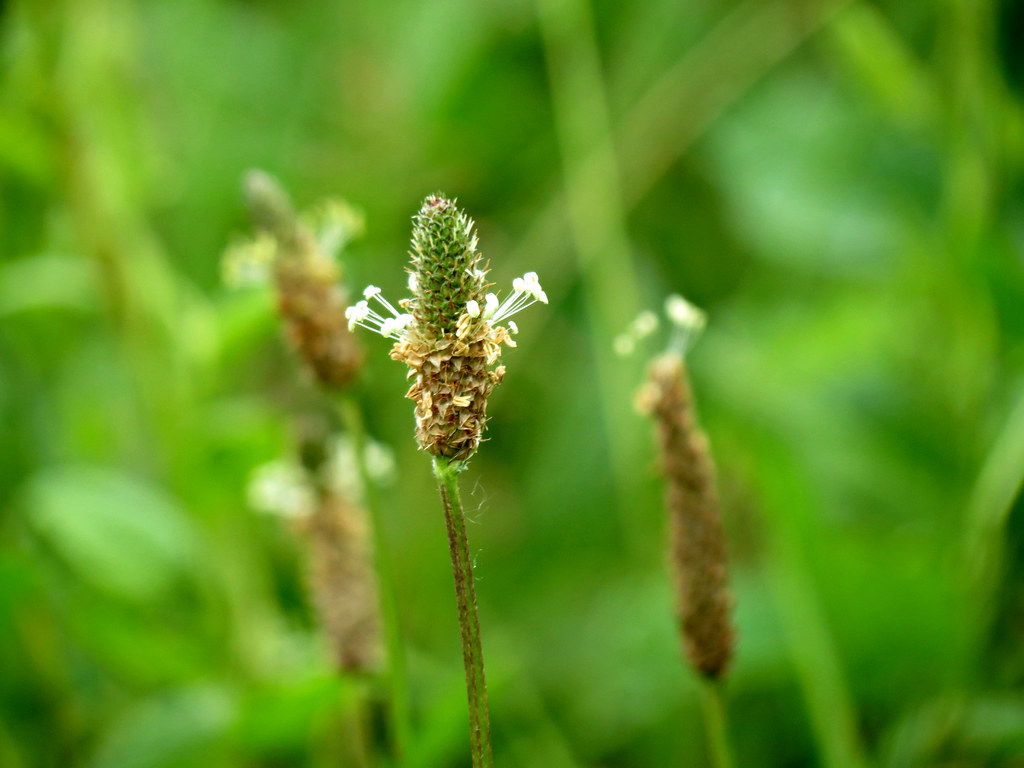buckhorn plantain: (349, 177, 574, 713)
